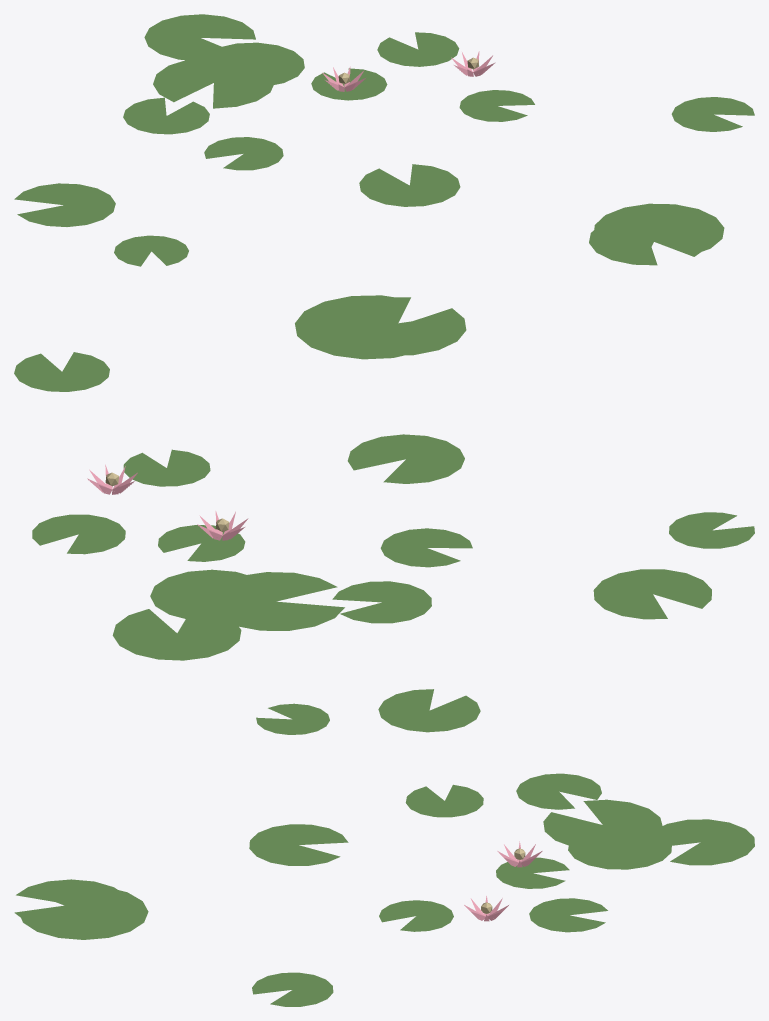
File: LilyPads.fbx
The picture shows the model from 3 angles, top to bottom: view 1: azimuth 30°, elevation 25°; view 2: azimuth 150°, elevation 25°; view 3: azimuth 270°, elevation 25°; orthographic projection. The views are drawn at different scales.
Visible parts, largest first — view 1: LilyPads; view 2: LilyPads; view 3: LilyPads.
Part boxes in pixels (x1,y1,x2,y2): LilyPads: [14, 14, 754, 266]; LilyPads: [14, 295, 754, 660]; LilyPads: [14, 689, 754, 1006].
Size of the model in its own units: 2.29 by 0.065 by 2.26.
